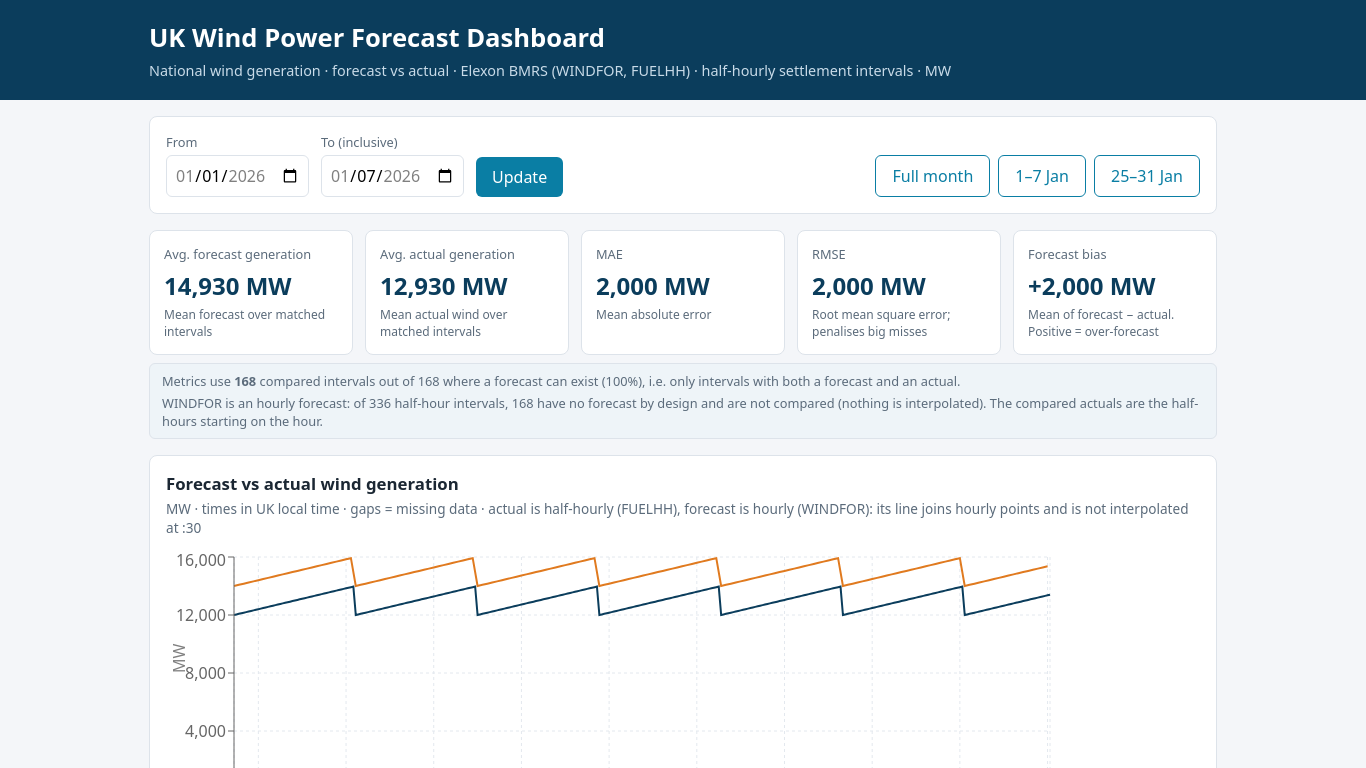
Test: date range controls › preset "25–31 Jan" requests the whole last day (inclusive end) and updates the KPIs
Expected: the text "+2,000 MW" is shown, [1028,269,1156,302]
What coordinates should you click on to do the following:
click the button "25–31 Jan"
I would click on:
 (1147, 176)
Its box is [1094,155,1200,197].
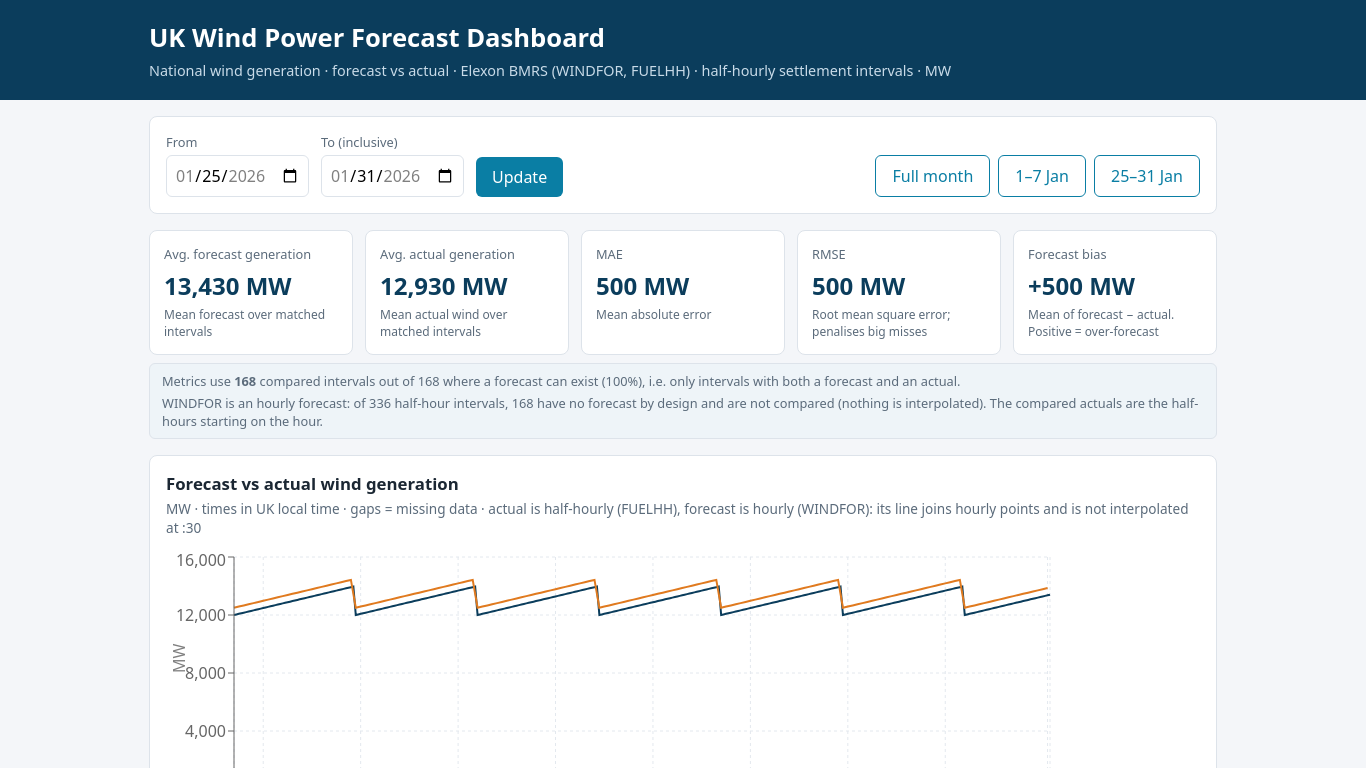
Result: the text "+500 MW" is shown at [1028,269,1135,302]
Result: the text "+2,000 MW" is gone
